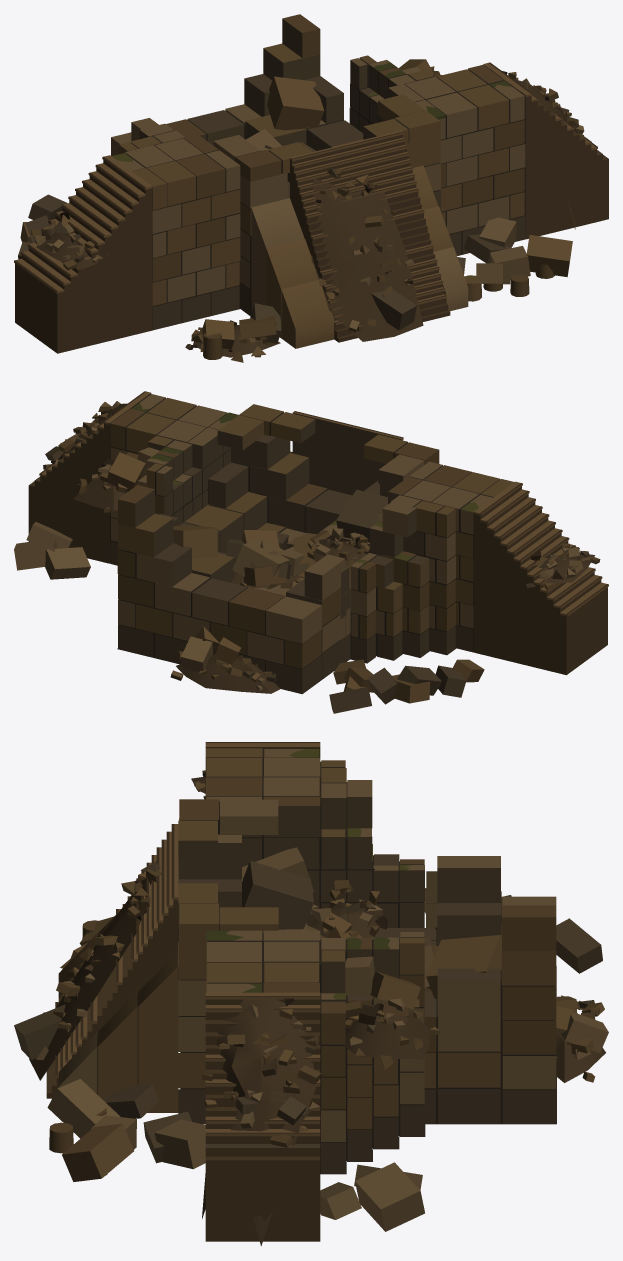
Rendered from ZonRuin16b.glb.
3 views of the same model, one above another, from view 1: azimuth 30°, elevation 25°; view 2: azimuth 150°, elevation 25°; view 3: azimuth 270°, elevation 25° (orthographic). The views are drawn at different scales.
Visible parts, largest first — view 1: st_dark; view 2: st_dark; view 3: st_dark.
Part boxes in pixels (x1,y1,x2,y2): st_dark: (14,14,608,362); st_dark: (14,391,608,713); st_dark: (14,742,608,1246).
Size of the model in its own units: 23.47 by 6.36 by 16.09.
